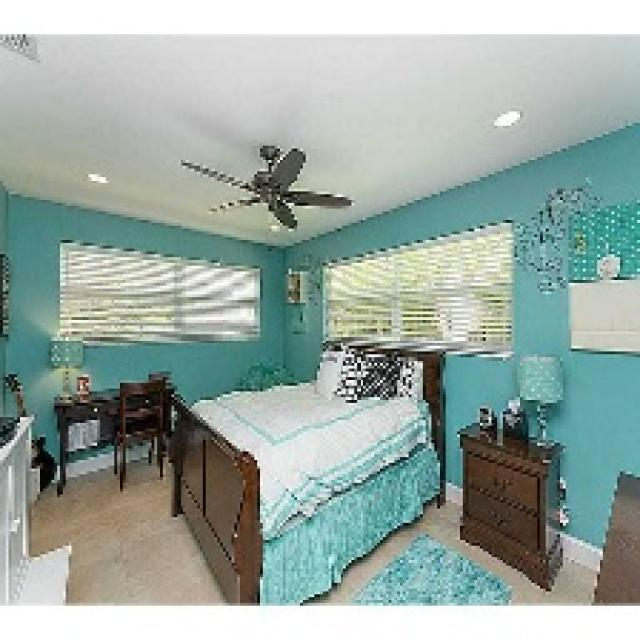Bed: (166, 334, 463, 603)
